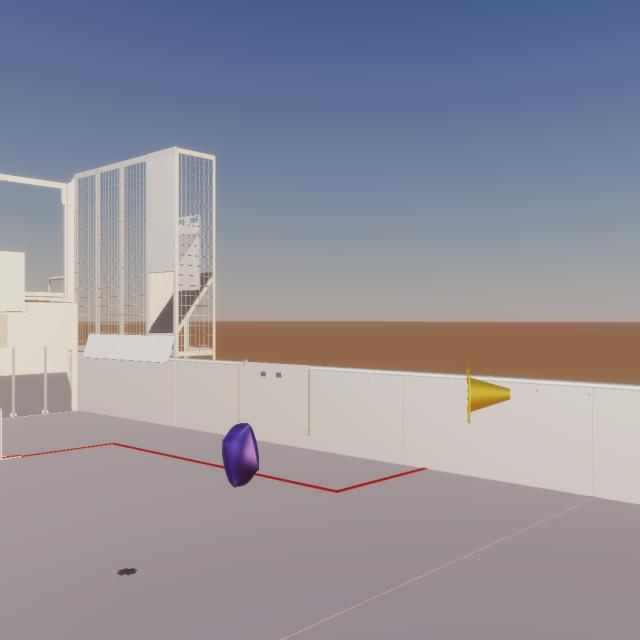frc_cone: (467, 368, 510, 423)
frc_cube: (222, 422, 259, 488)
